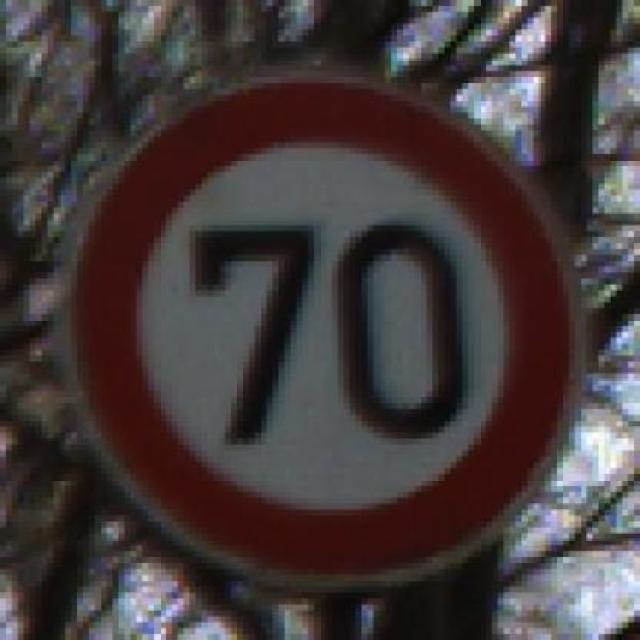forb_speed_over_70: (66, 73, 583, 585)
